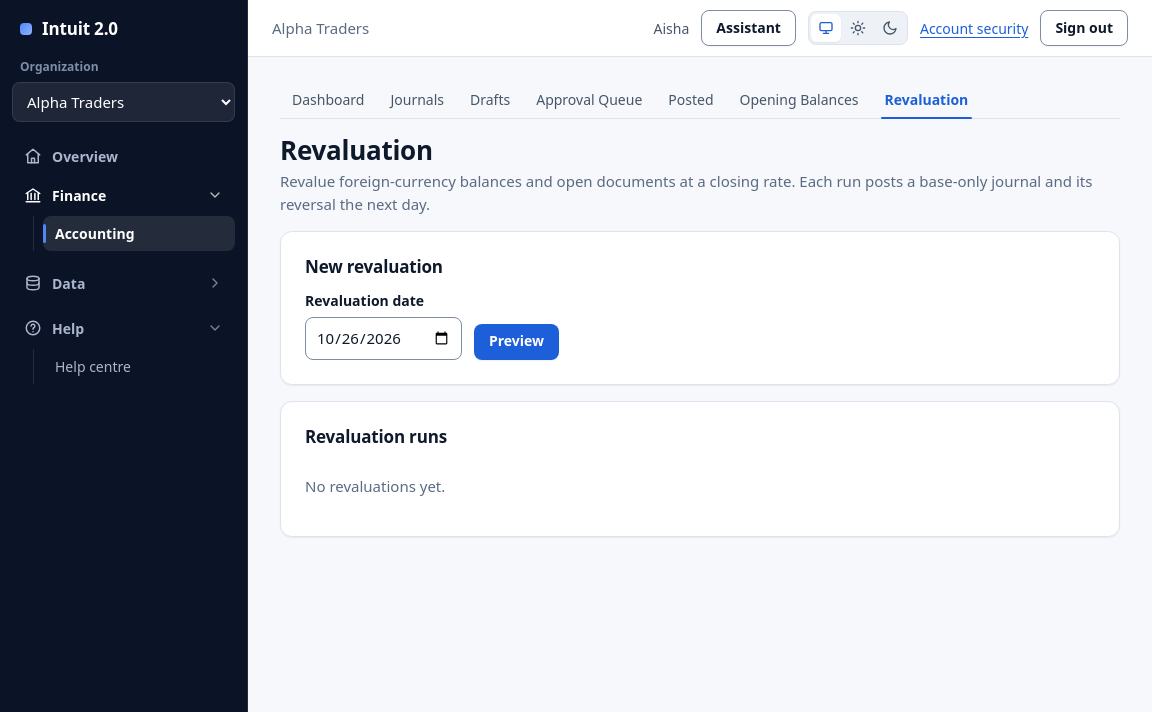
it: revaluation page › offers Submit for approval when the preview says approval applies
Click the button "Preview": (517,342) [474,324,559,360]
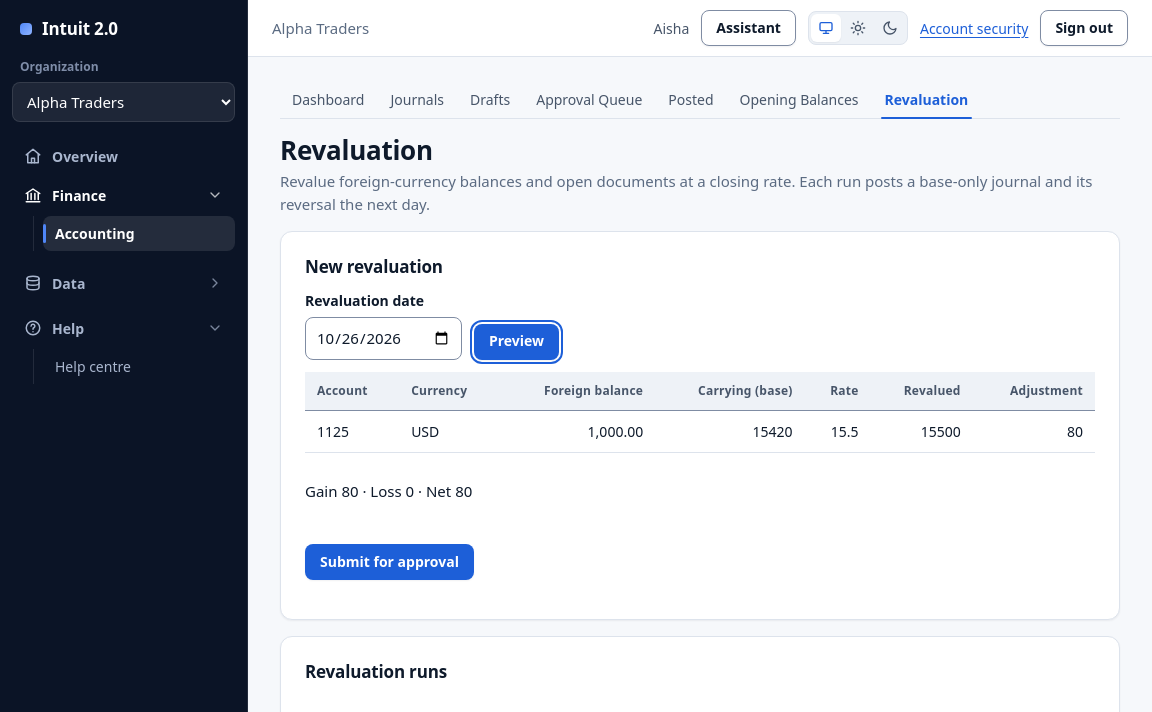
Result: the button "Submit for approval" is shown at [305,544,474,580]
